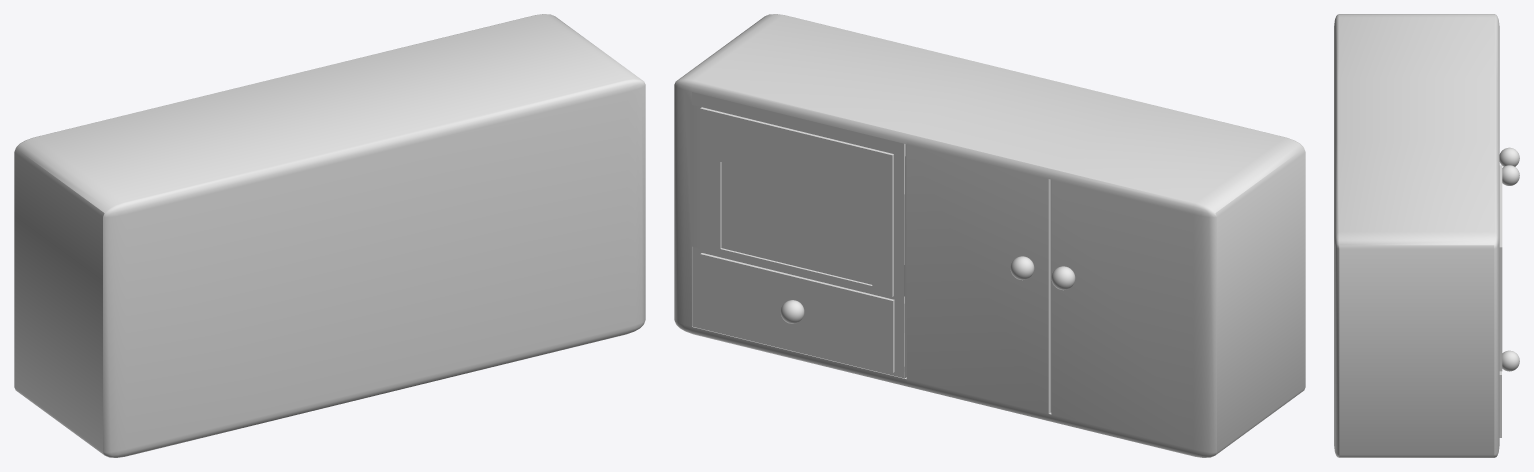
Rendered from OvenCounter.fbx.
3 views of the same model, side by side, from view 1: azimuth 30°, elevation 25°; view 2: azimuth 150°, elevation 25°; view 3: azimuth 270°, elevation 25° (orthographic). The views are drawn at different scales.
Visible parts, largest first — view 1: Kitchen counter w oven; view 2: Kitchen counter w oven; view 3: Kitchen counter w oven.
Boxes of the visible parts, x1,y1,x2,y2 form: Kitchen counter w oven: [14, 14, 645, 457]; Kitchen counter w oven: [674, 14, 1305, 457]; Kitchen counter w oven: [1334, 14, 1519, 457].
Bounding box in the file's own units: 822 × 368 × 279.
